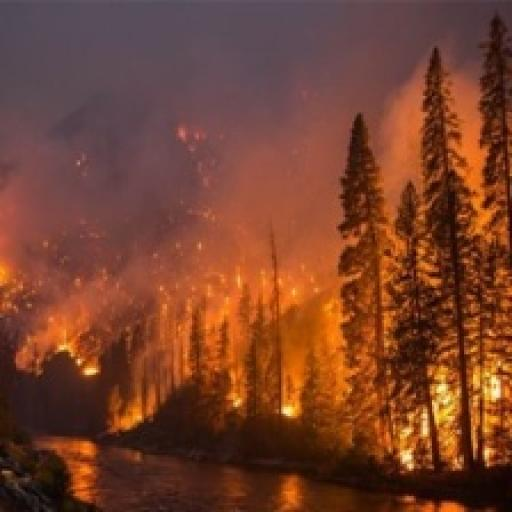fire and smoke: (0, 5, 489, 365)
